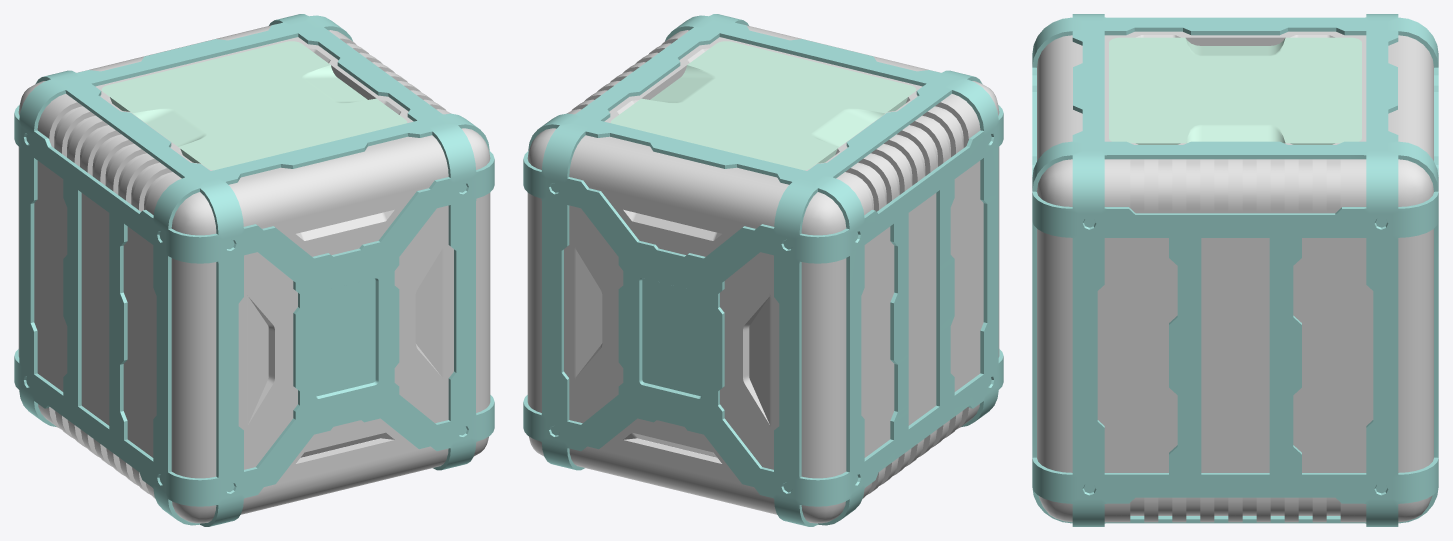
File: Cajafea.fbx
The picture shows the model from 3 angles, left to right: view 1: azimuth 30°, elevation 25°; view 2: azimuth 150°, elevation 25°; view 3: azimuth 270°, elevation 25°; orthographic projection. The views are drawn at different scales.
Parts seen in each view (by area): view 1: 4, 3, 2, 1; view 2: 4, 3, 2, 1; view 3: 4, 3, 2, 1.
Part boxes in pixels (x1,y1,x2,y2): 4: (14, 14, 494, 526); 3: (18, 147, 490, 478); 2: (18, 24, 490, 523); 1: (101, 41, 407, 170); 4: (523, 14, 1003, 526); 3: (527, 147, 999, 478); 2: (527, 24, 999, 523); 1: (610, 41, 916, 170); 4: (1032, 14, 1438, 526); 3: (1037, 229, 1433, 472); 2: (1037, 31, 1433, 522); 1: (1109, 37, 1361, 144).
Bounding box in the file's own units: 205 × 205 × 205.
